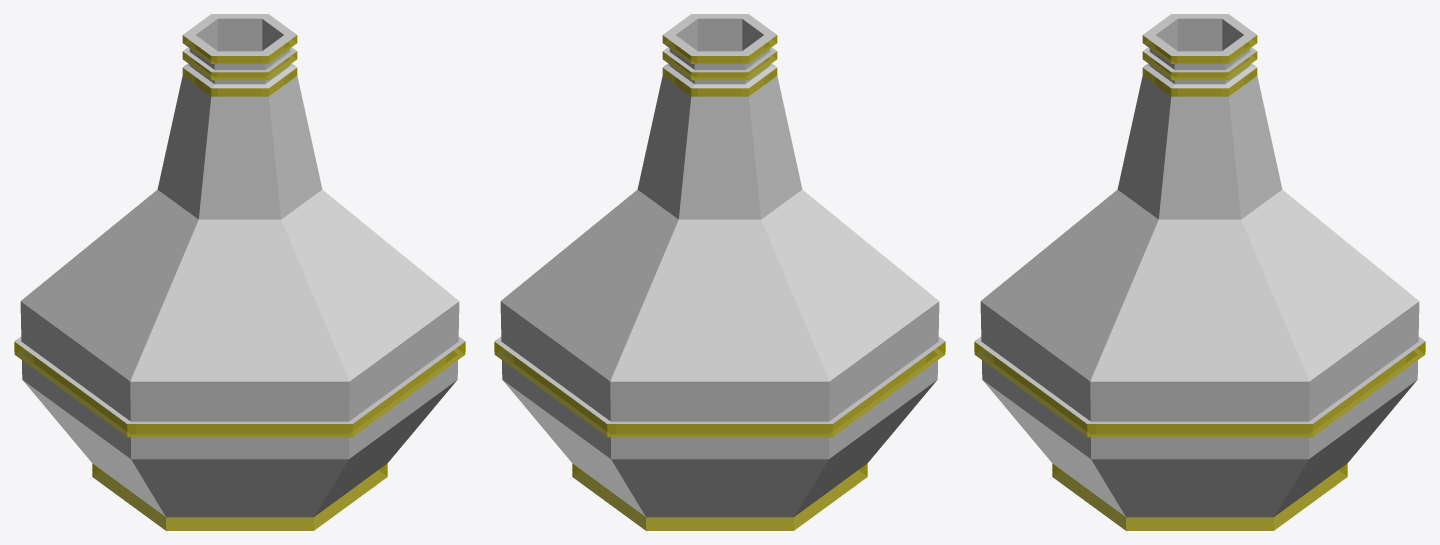
The model's file is potion_yellow.fbx.
3 renders of one model, left to right at view 1: azimuth 30°, elevation 25°; view 2: azimuth 150°, elevation 25°; view 3: azimuth 270°, elevation 25°, orthographic.
Parts seen in each view (by area): view 1: Red Potion; view 2: Red Potion; view 3: Red Potion.
Boxes of the visible parts, bbox=[...] form: Red Potion: bbox=[14, 14, 465, 530]; Red Potion: bbox=[494, 14, 945, 530]; Red Potion: bbox=[974, 14, 1425, 530].
Size of the model in its own units: 9.44 by 11.78 by 10.9.
